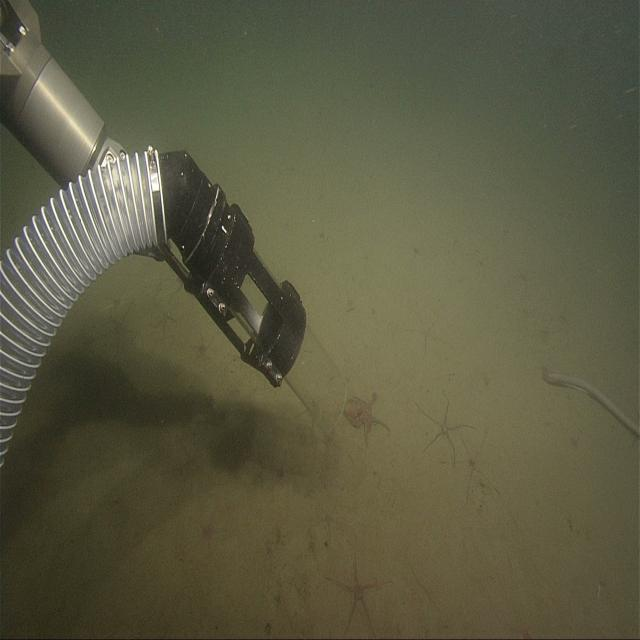Brittle Star: (326, 535, 392, 637), (414, 384, 477, 474), (189, 502, 230, 586), (404, 301, 447, 364), (97, 279, 132, 322), (188, 323, 217, 370)
